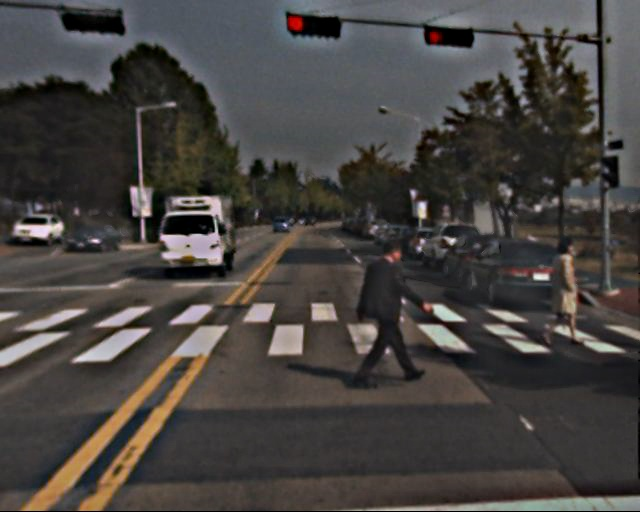person: (361, 241, 420, 385), (544, 238, 589, 347)
